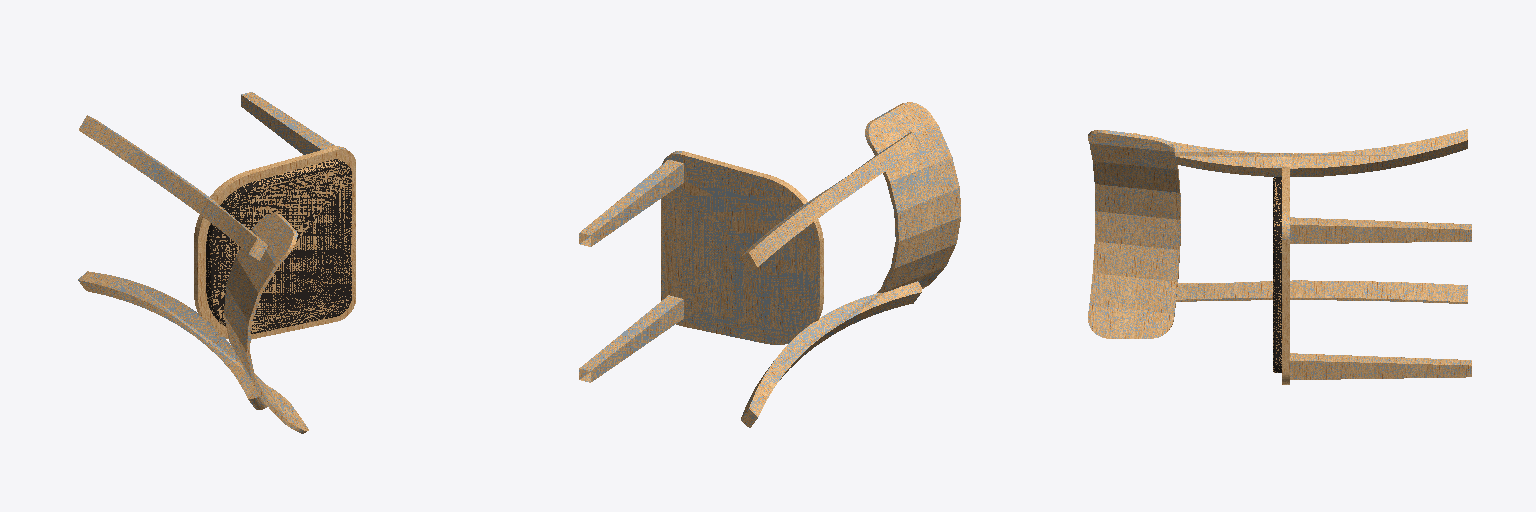
The picture shows the model from 3 angles: view 1: azimuth 30°, elevation 25°; view 2: azimuth 150°, elevation 25°; view 3: azimuth 270°, elevation 25°; orthographic projection.
Visible parts, largest first — view 1: Mesh11 Group5 Group1 Model, Mesh1 Group2 Group1 Model, Mesh13 Group1 Model, Mesh7 ACHTERPOOT_185_1 Group4 Group1 Model, Mesh9 ACHTERPOOT_185_2 Group4 Group1 Model, Mesh5 poot_185_1_2 Group3 Group1 Model; view 2: Mesh13 Group1 Model, Mesh1 Group2 Group1 Model, Mesh9 ACHTERPOOT_185_2 Group4 Group1 Model, Mesh7 ACHTERPOOT_185_1 Group4 Group1 Model, Mesh3 poot_185_1_1 Group3 Group1 Model, Mesh5 poot_185_1_2 Group3 Group1 Model; view 3: Mesh1 Group2 Group1 Model, Mesh7 ACHTERPOOT_185_1 Group4 Group1 Model, Mesh9 ACHTERPOOT_185_2 Group4 Group1 Model, Mesh3 poot_185_1_1 Group3 Group1 Model, Mesh5 poot_185_1_2 Group3 Group1 Model, Mesh11 Group5 Group1 Model, Mesh13 Group1 Model.
Boxes of the visible parts, box(x1,y1,x2,y2) form: Mesh11 Group5 Group1 Model: box(206, 159, 351, 333); Mesh1 Group2 Group1 Model: box(224, 213, 308, 433); Mesh13 Group1 Model: box(194, 146, 355, 339); Mesh7 ACHTERPOOT_185_1 Group4 Group1 Model: box(79, 115, 267, 260); Mesh9 ACHTERPOOT_185_2 Group4 Group1 Model: box(78, 271, 267, 409); Mesh5 poot_185_1_2 Group3 Group1 Model: box(241, 92, 334, 154); Mesh13 Group1 Model: box(661, 151, 823, 344); Mesh1 Group2 Group1 Model: box(865, 102, 960, 292); Mesh9 ACHTERPOOT_185_2 Group4 Group1 Model: box(741, 281, 921, 427); Mesh7 ACHTERPOOT_185_1 Group4 Group1 Model: box(740, 132, 921, 271); Mesh3 poot_185_1_1 Group3 Group1 Model: box(579, 295, 683, 382); Mesh5 poot_185_1_2 Group3 Group1 Model: box(579, 160, 683, 246); Mesh1 Group2 Group1 Model: box(1088, 130, 1180, 338); Mesh7 ACHTERPOOT_185_1 Group4 Group1 Model: box(1133, 129, 1467, 176); Mesh9 ACHTERPOOT_185_2 Group4 Group1 Model: box(1176, 280, 1467, 303); Mesh3 poot_185_1_1 Group3 Group1 Model: box(1290, 353, 1471, 379); Mesh5 poot_185_1_2 Group3 Group1 Model: box(1290, 217, 1471, 243); Mesh11 Group5 Group1 Model: box(1273, 177, 1281, 372); Mesh13 Group1 Model: box(1282, 167, 1289, 384).
Size of the model in its own units: 0.5378 by 0.5141 by 0.883.
3 materials, 1 textured.